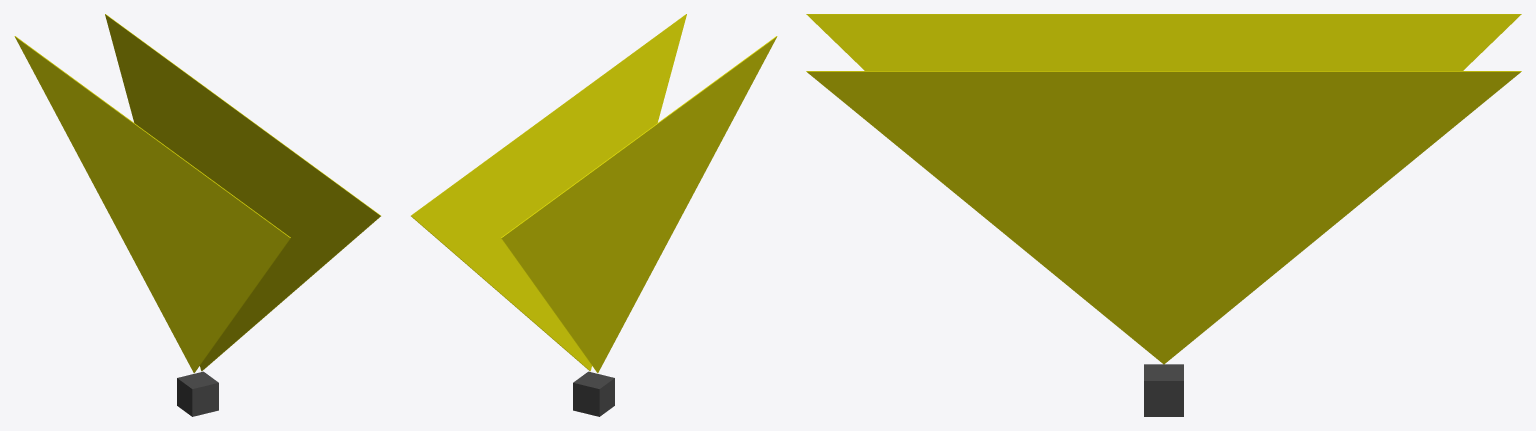
The model's file is Butterfly.fbx.
3 views of the same model, side by side, from view 1: azimuth 30°, elevation 25°; view 2: azimuth 150°, elevation 25°; view 3: azimuth 270°, elevation 25° (orthographic). The views are drawn at different scales.
Visible parts, largest first — view 1: Wing1, Wing2, Body; view 2: Wing1, Wing2, Body; view 3: Wing2, Wing1, Body.
Part boxes in pixels (x1,y1,x2,y2): Wing1: (14, 36, 290, 372); Wing2: (105, 14, 380, 371); Body: (177, 371, 218, 416); Wing1: (501, 36, 777, 372); Wing2: (411, 14, 686, 371); Body: (573, 371, 614, 416); Wing2: (806, 71, 1521, 364); Wing1: (806, 14, 1521, 70); Body: (1144, 364, 1183, 416).
Size of the model in its own units: 11.17 by 33.04 by 58.54.
